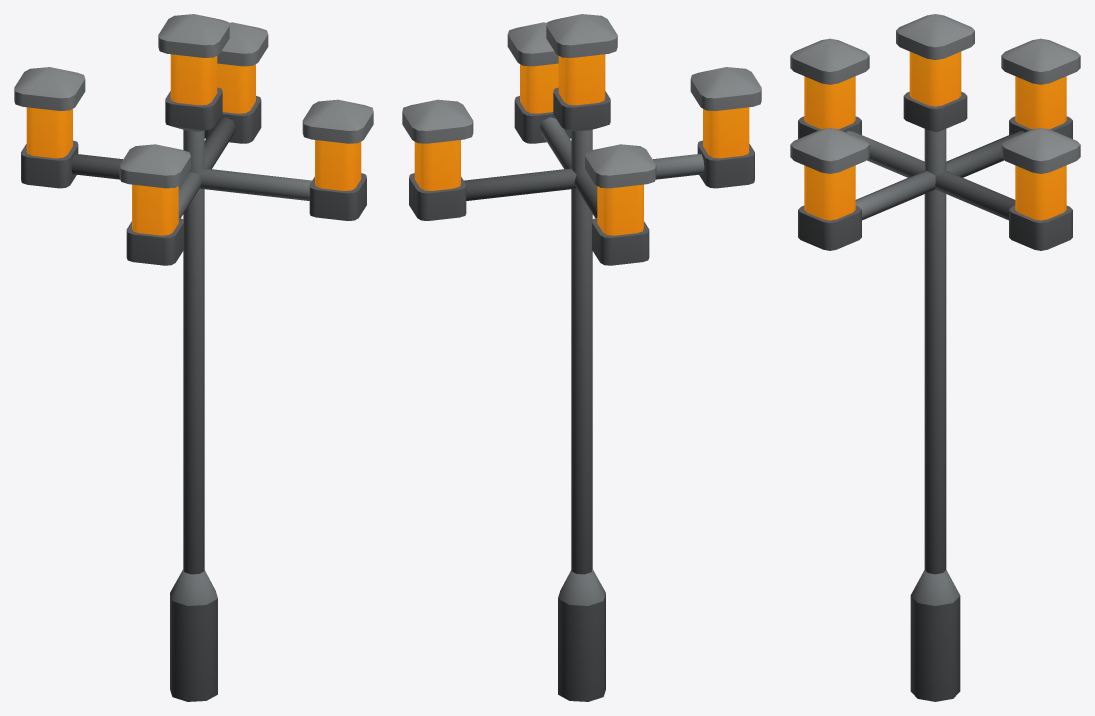
Rendered from Spotlight_02.glb.
The picture shows the model from 3 angles, left to right: view 1: azimuth 30°, elevation 25°; view 2: azimuth 150°, elevation 25°; view 3: azimuth 270°, elevation 25°; orthographic projection.
Parts seen in each view (by area): view 1: Spotlight_02; view 2: Spotlight_02; view 3: Spotlight_02.
Boxes of the visible parts, x1,y1,x2,y2 form: Spotlight_02: (14,14,373,701); Spotlight_02: (402,14,761,701); Spotlight_02: (790,14,1080,701).
Size of the model in its own units: 2.76 by 7.1 by 2.76.
Materials: 2 (2 with a texture image).
